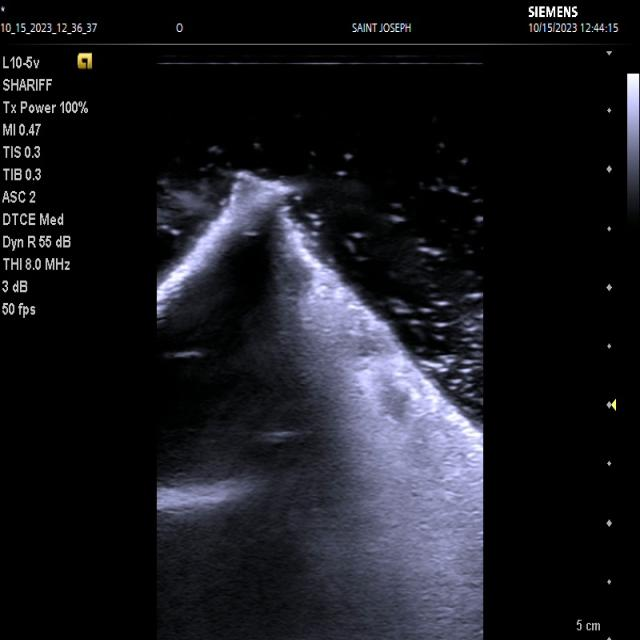tissue: (157, 180, 483, 640)
